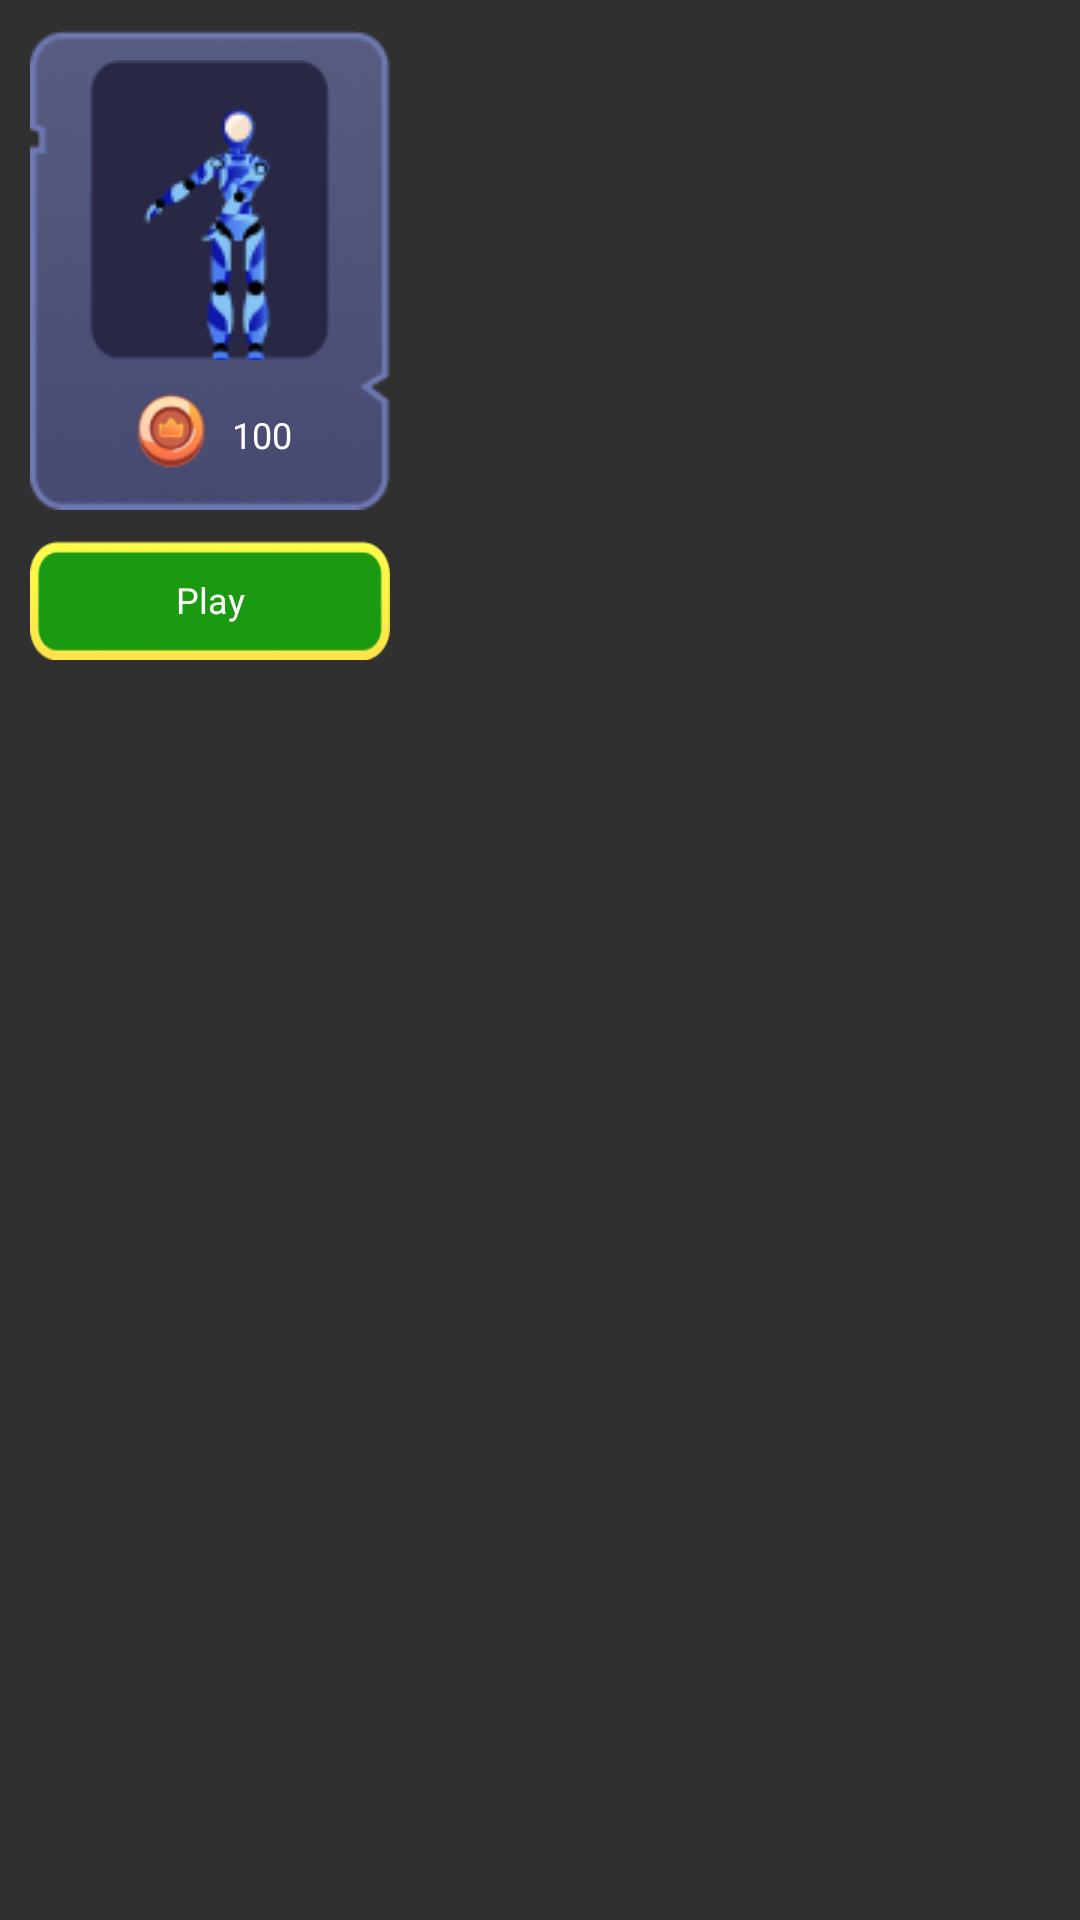

Named icons in this screenshot (1080 × 1920) and their bounding boxes, {"x1": x1, "y1": y1, "x2": x2, "y2": y2}:
coin: {"x1": 137, "y1": 394, "x2": 205, "y2": 468}
player: {"x1": 141, "y1": 109, "x2": 279, "y2": 360}
